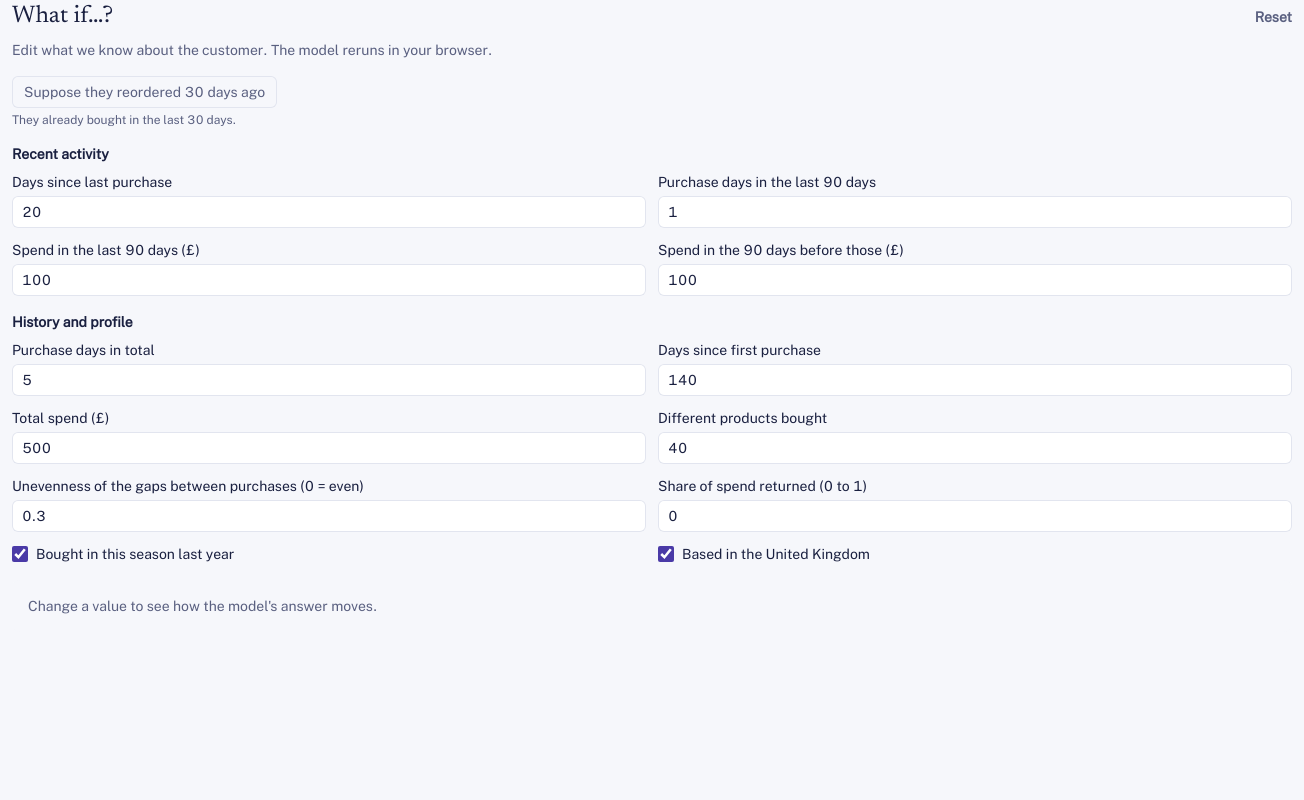
it: when the model fails, the what-if says so
Replace the text in the field labelled "Days since last purchase" with "60": (329, 212) [12, 196, 646, 228]
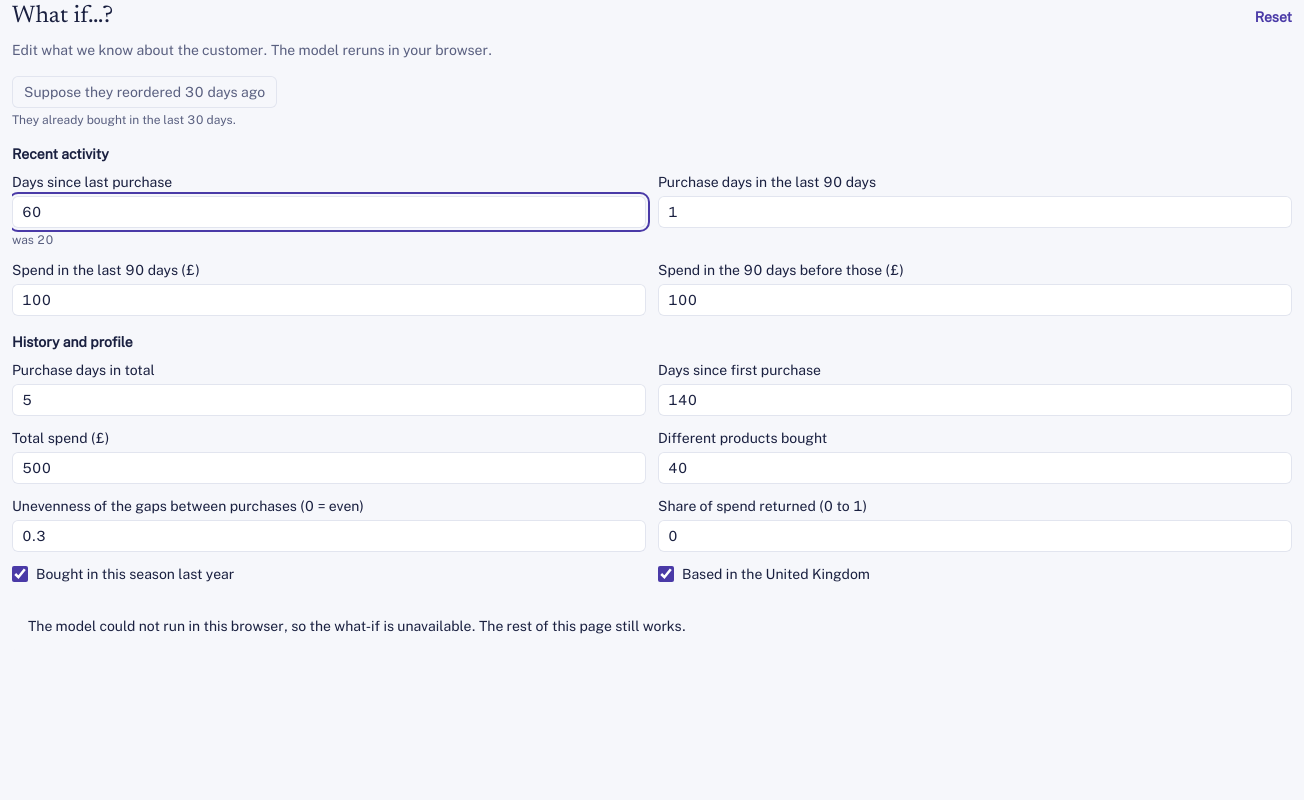
Expected: the message named "What-if result" shows "The model could not run in this browser, so the what-if is unavailable. The rest of this page still works.", [28, 618, 686, 634]
